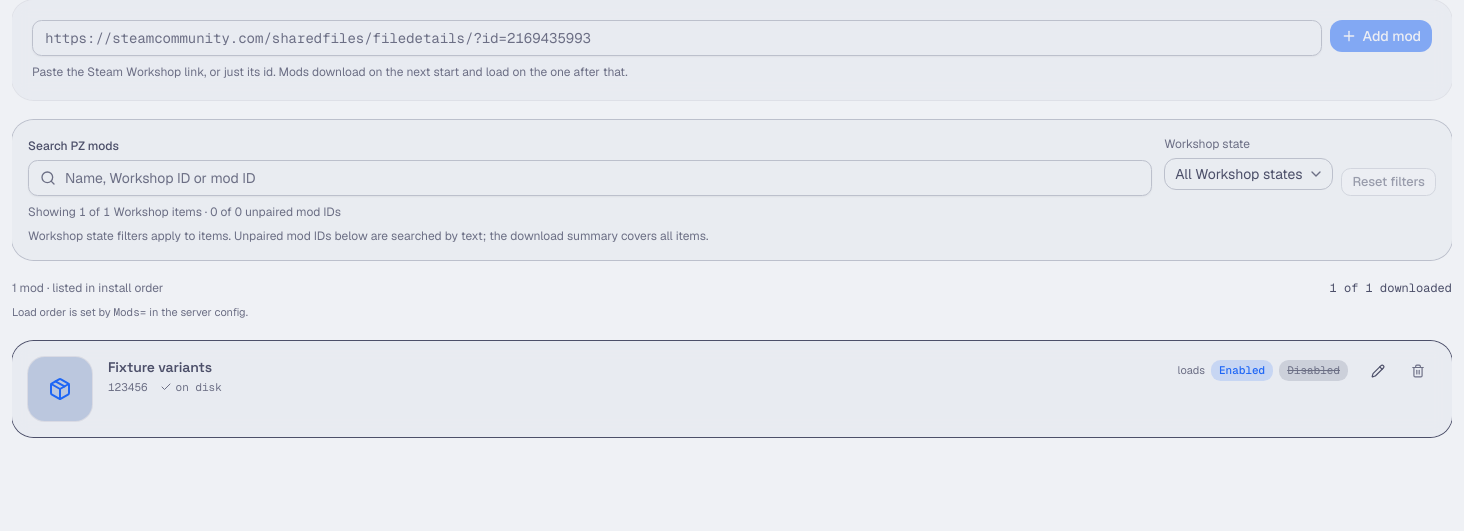
Test case: sends the PZ mod list INI revision for DELETE
Expected: the text "Fixture variants" is shown, [108,356,222,376]
Click the button titled "Remove mod" at {"x": 1418, "y": 370}, box [1400,356,1436,384]
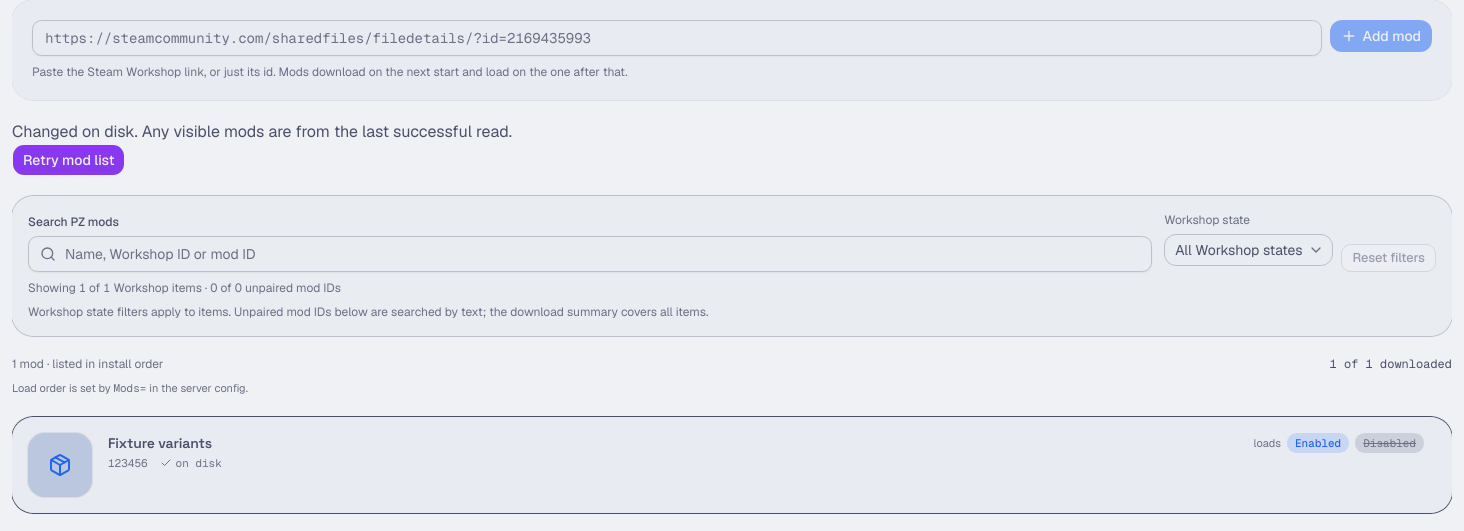
Result: the message that starts with "Changed on disk" is shown at [12,121,512,176]
